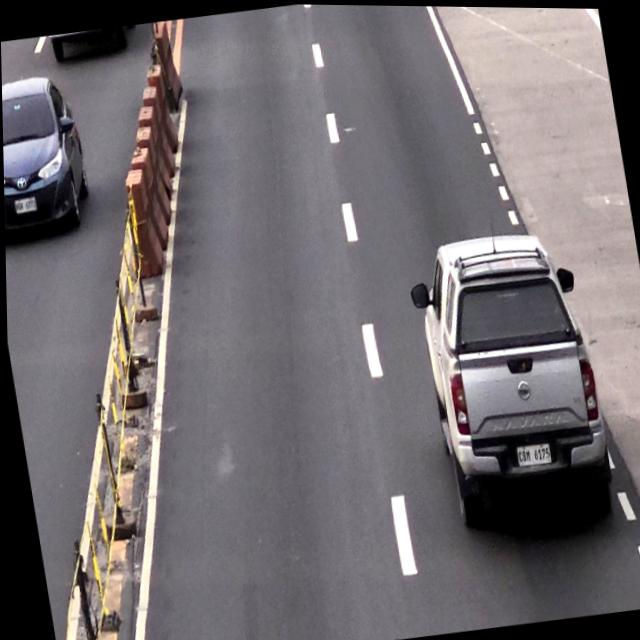Car: (413, 230, 610, 538)
License-Plate: (513, 438, 552, 466)
